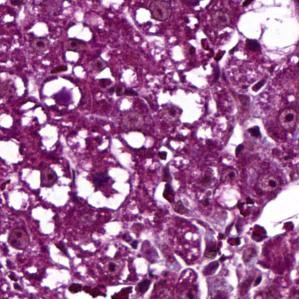ballooning: (236, 0, 299, 62), (72, 161, 134, 213), (39, 75, 83, 113)
